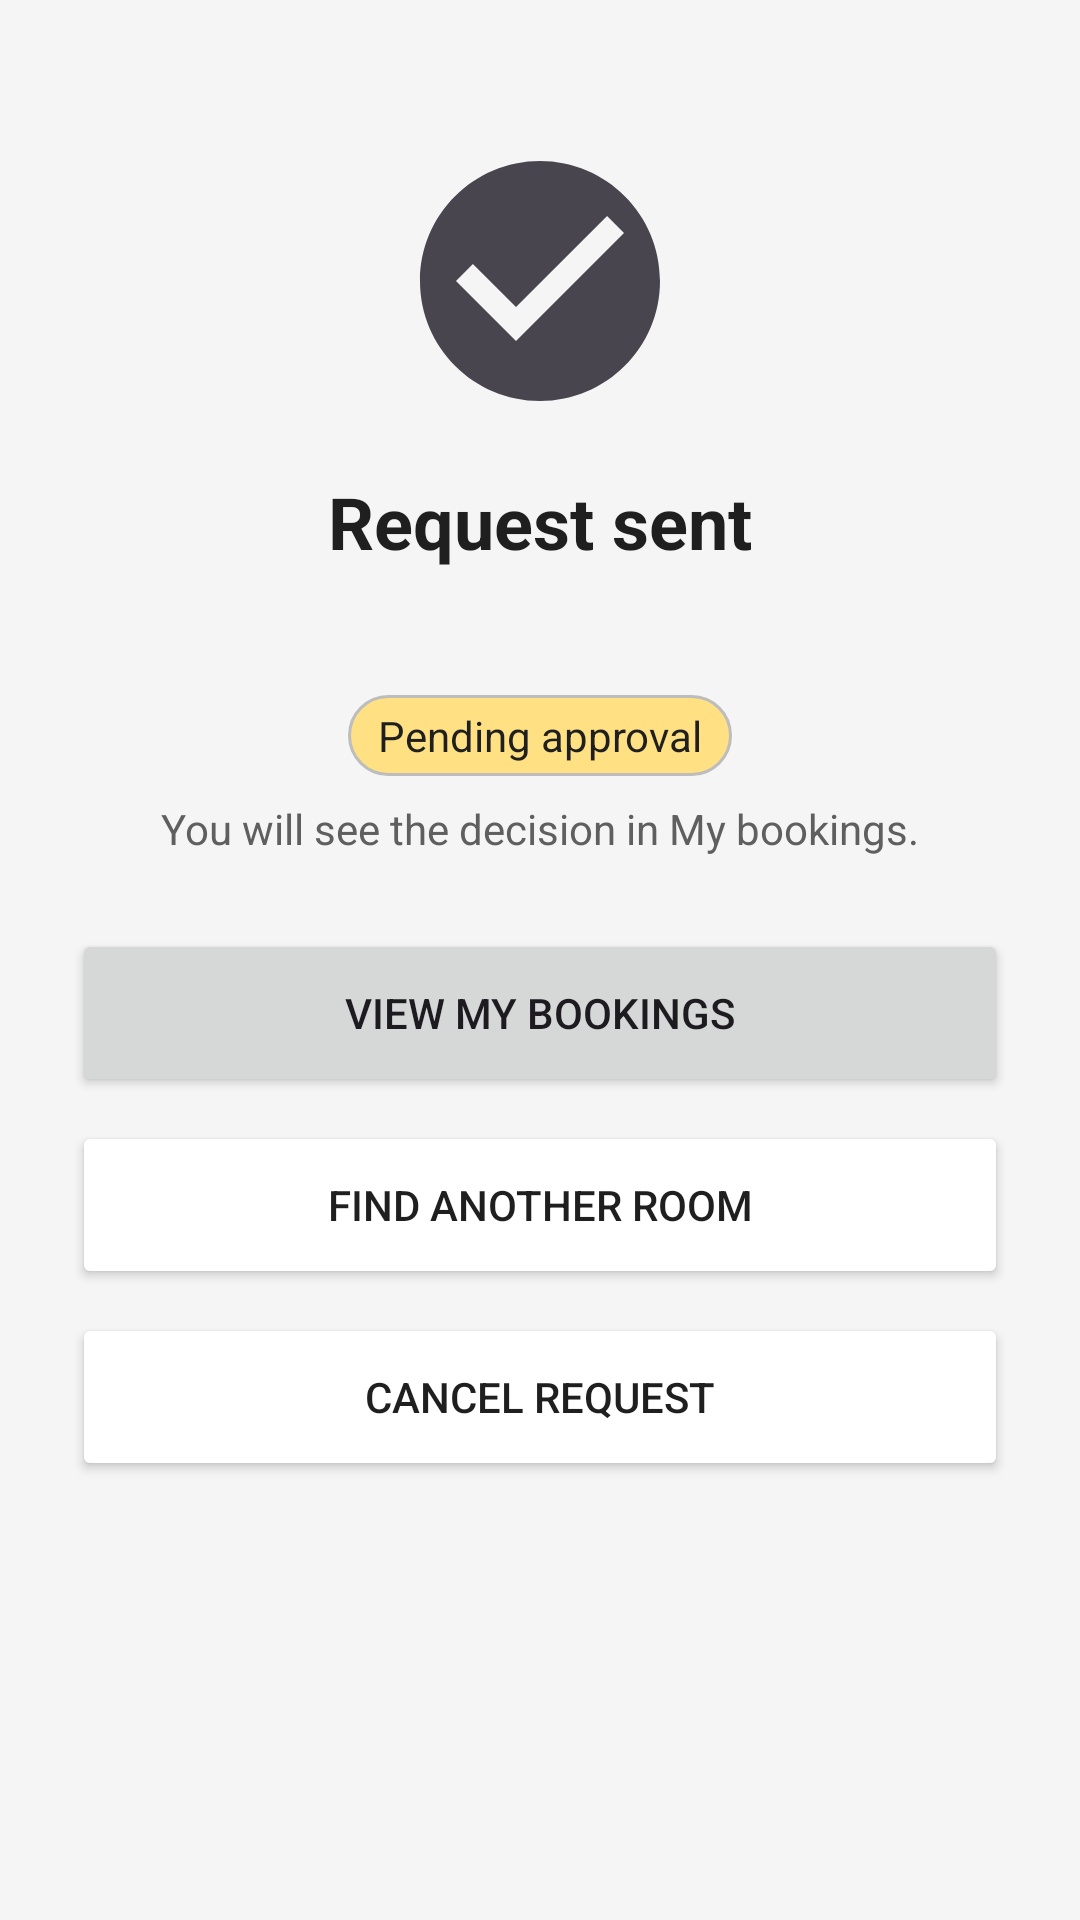

Icons on this 1080w x 1920h Android screen, each with its box as bbox=[x1, y1, x2, y2]:
Success: bbox=[420, 161, 660, 401]
